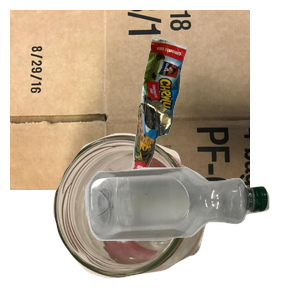cardboard: (10, 10, 250, 190)
glass: (50, 131, 252, 300)
plastic: (83, 165, 300, 300)
trash: (130, 34, 300, 203)
